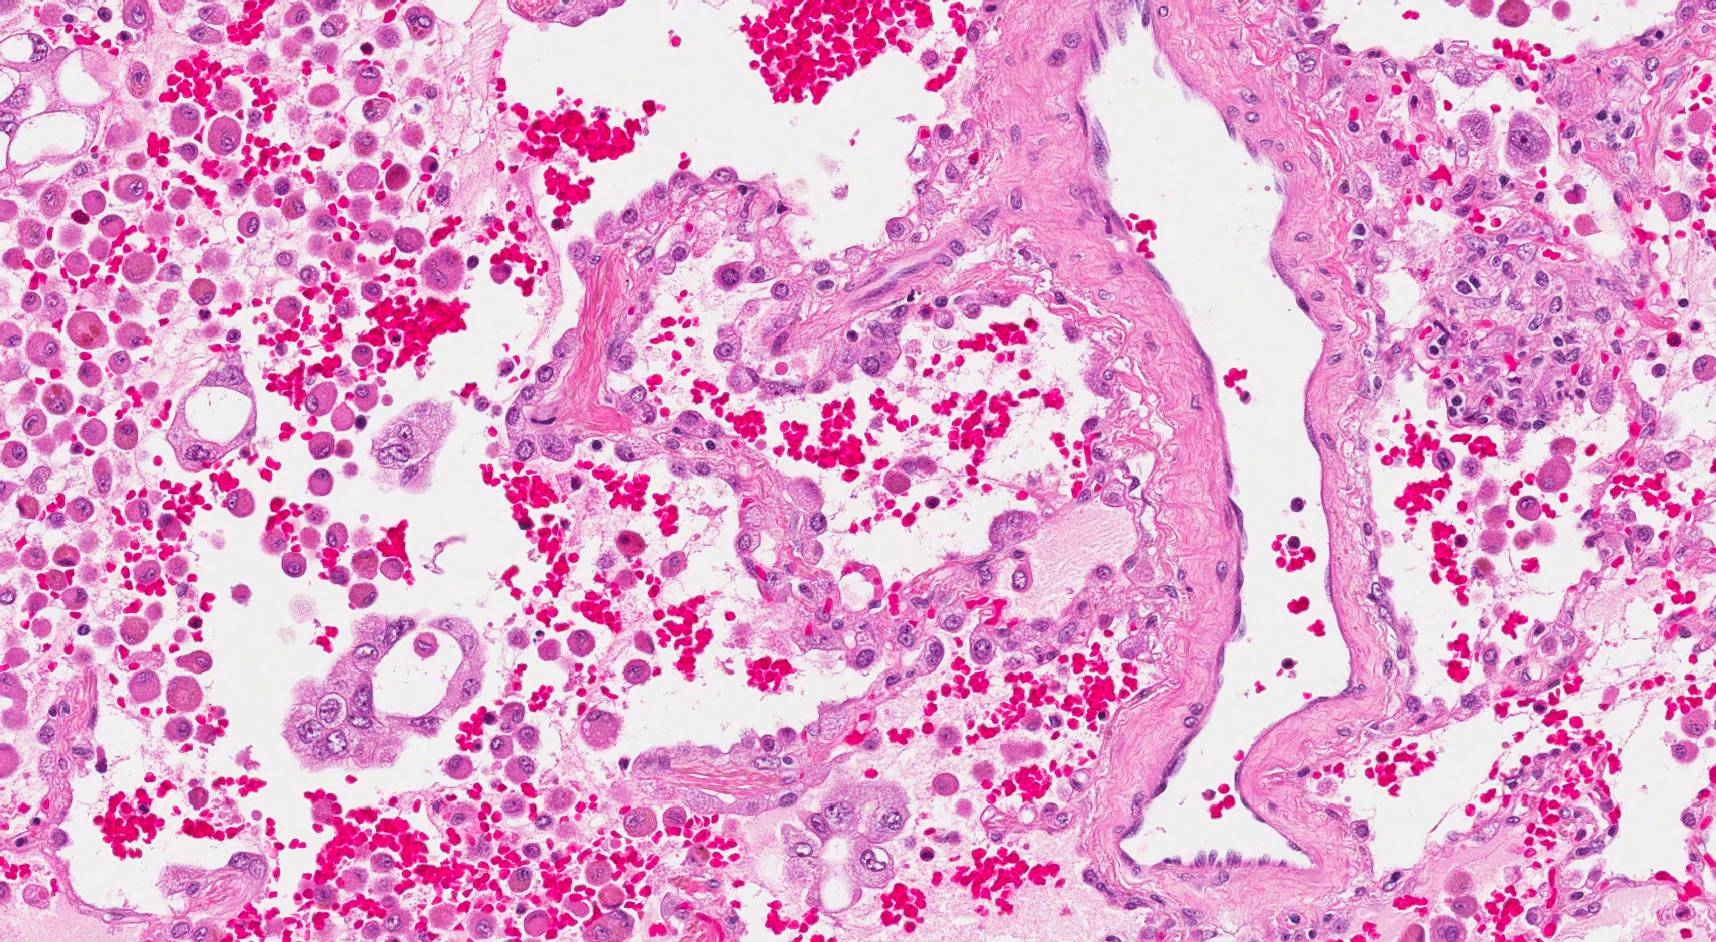stas: (283, 614, 488, 773), (779, 784, 908, 911), (165, 355, 263, 473), (366, 400, 453, 495)
